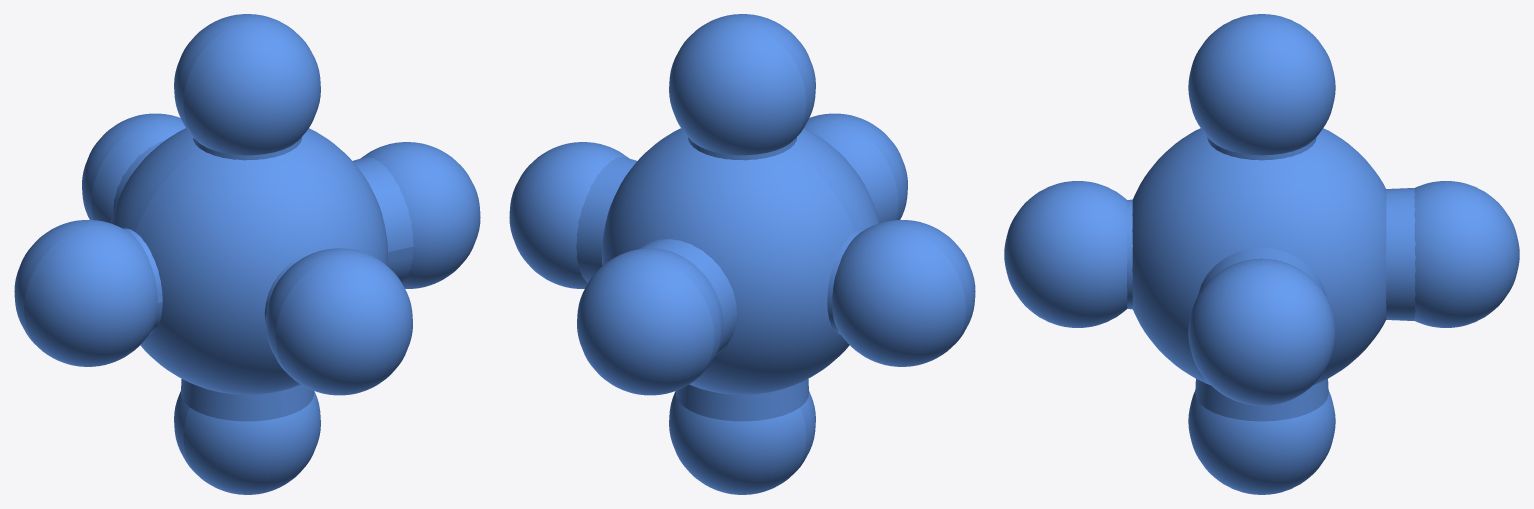
File: blue-jack.glb
3 renders of one model, left to right at view 1: azimuth 30°, elevation 25°; view 2: azimuth 150°, elevation 25°; view 3: azimuth 270°, elevation 25°, orthographic.
Parts seen in each view (by area): view 1: blue-jack; view 2: blue-jack; view 3: blue-jack.
Boxes of the visible parts, x1=… form: blue-jack: x1=14, y1=14, x2=480, y2=494; blue-jack: x1=509, y1=14, x2=975, y2=494; blue-jack: x1=1004, y1=14, x2=1519, y2=494.
Bounding box in the file's own units: 1.77 × 1.77 × 1.77.
